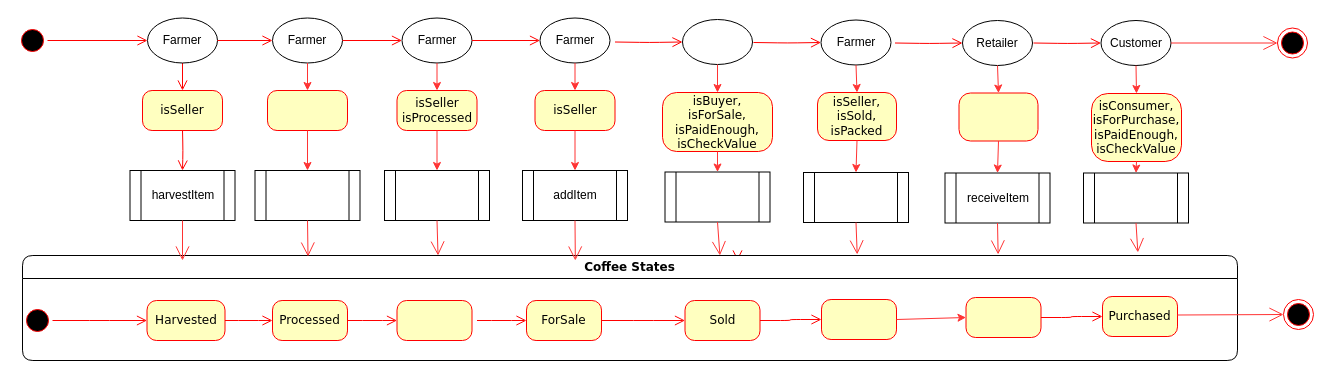
Image size: 1331x378. Some labels were removed from this diagram. Each missing label, with the centre of its shape:
buyItem: (717,196)
Distributor: (717,41)
isRetailer isShipped: (998,116)
isSeller isHarvested: (307,110)
Packaged: (434,320)
packageItem: (437,195)
processItem: (307,195)
purchaseItem: (1135,197)
Received: (1003,317)
shipItem: (855,197)
Shipped: (858,319)
